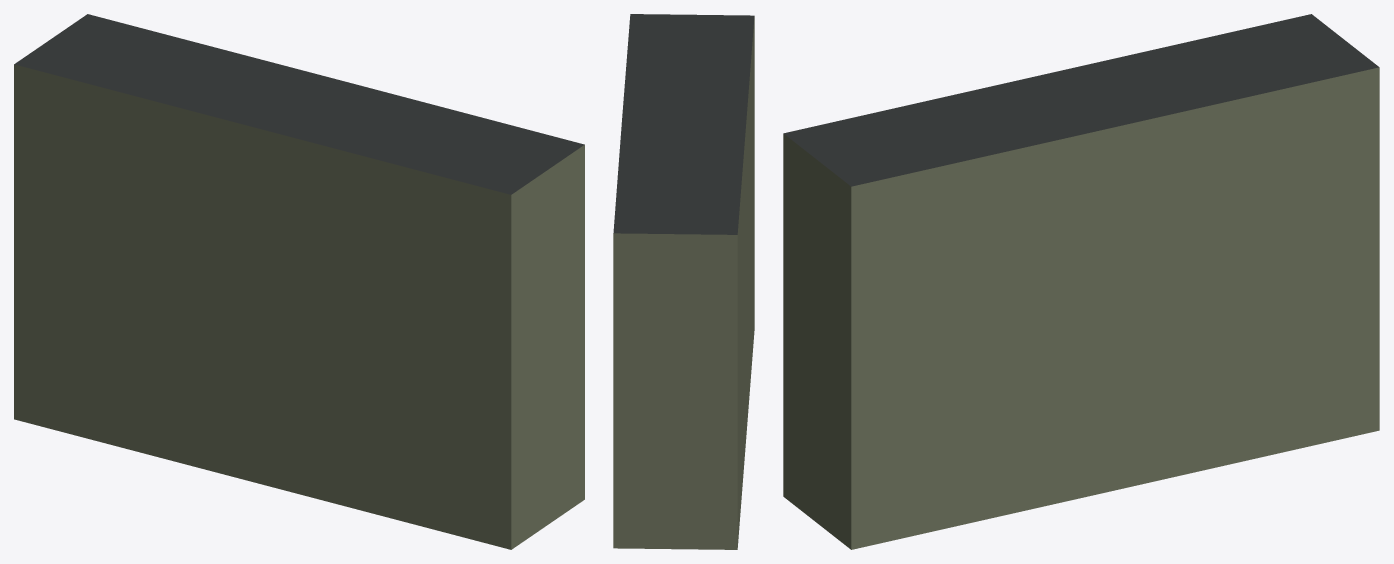
The model's file is nyc-1022657-0.glb.
3 renders of one model, left to right at view 1: azimuth 30°, elevation 25°; view 2: azimuth 150°, elevation 25°; view 3: azimuth 270°, elevation 25°, orthographic. The views are drawn at different scales.
Visible parts, largest first — view 1: nyc-1022657-0; view 2: nyc-1022657-0; view 3: nyc-1022657-0.
Part boxes in pixels (x1,y1,x2,y2): nyc-1022657-0: (14,14,584,549); nyc-1022657-0: (613,14,754,549); nyc-1022657-0: (783,14,1379,549).
Size of the model in its own units: 16.78 by 16.46 by 24.48.
